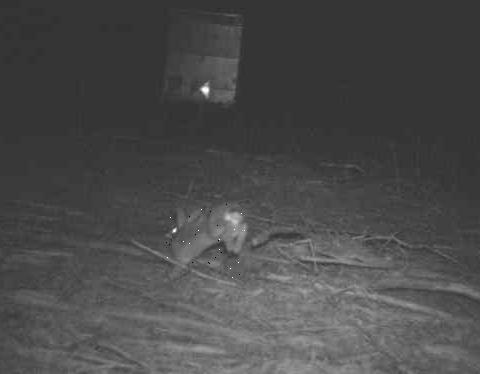Rabbit: (164, 203, 249, 285)
